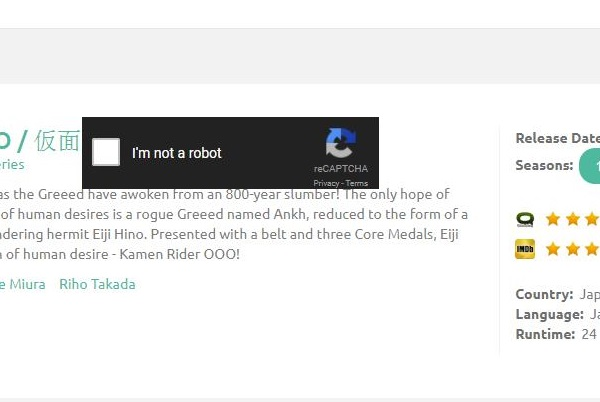captcha: (92, 137, 226, 166)
